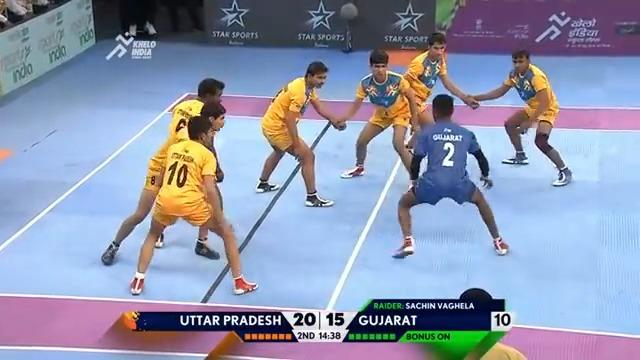Player: (128, 111, 258, 296), (100, 77, 227, 266), (467, 46, 572, 186), (254, 60, 346, 207), (334, 47, 421, 191), (400, 31, 479, 150)
Raider: (391, 93, 510, 258)
referee: (117, 0, 158, 39), (164, 0, 204, 33)
